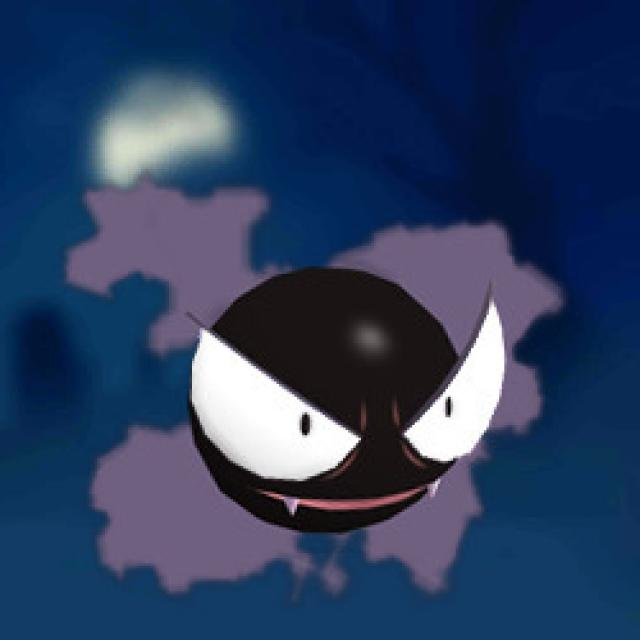Gastly: (96, 204, 524, 580)
